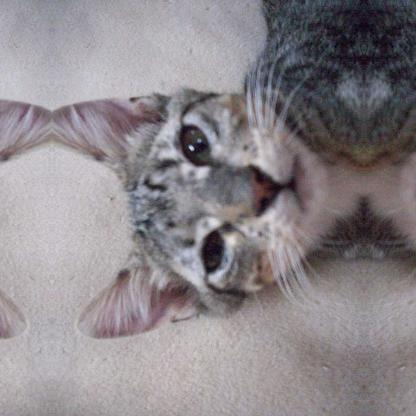Cat: (52, 0, 362, 340)
